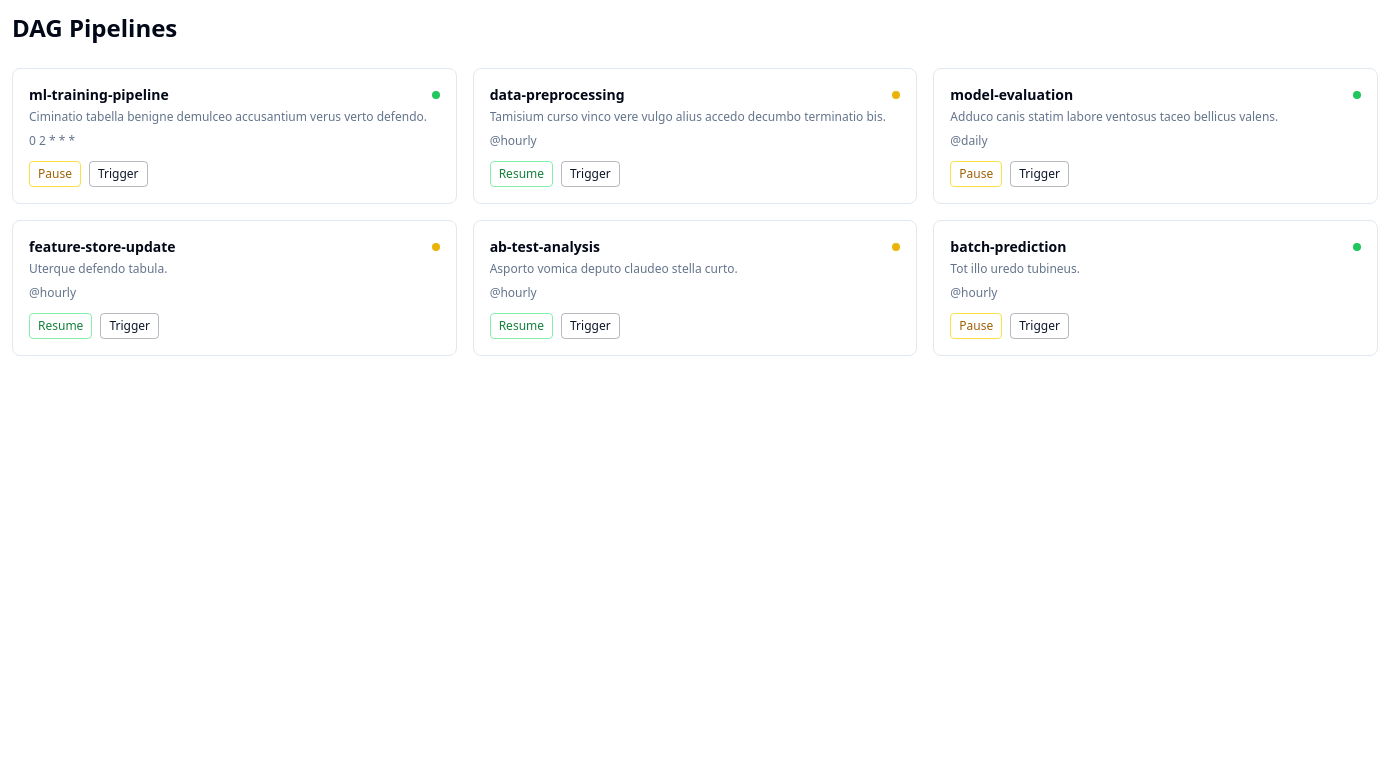
DAGListPage › shows graph and runs when a DAG is selected
Click the heading "ml-training-pipeline" at (99,95), box [29, 85, 169, 105]
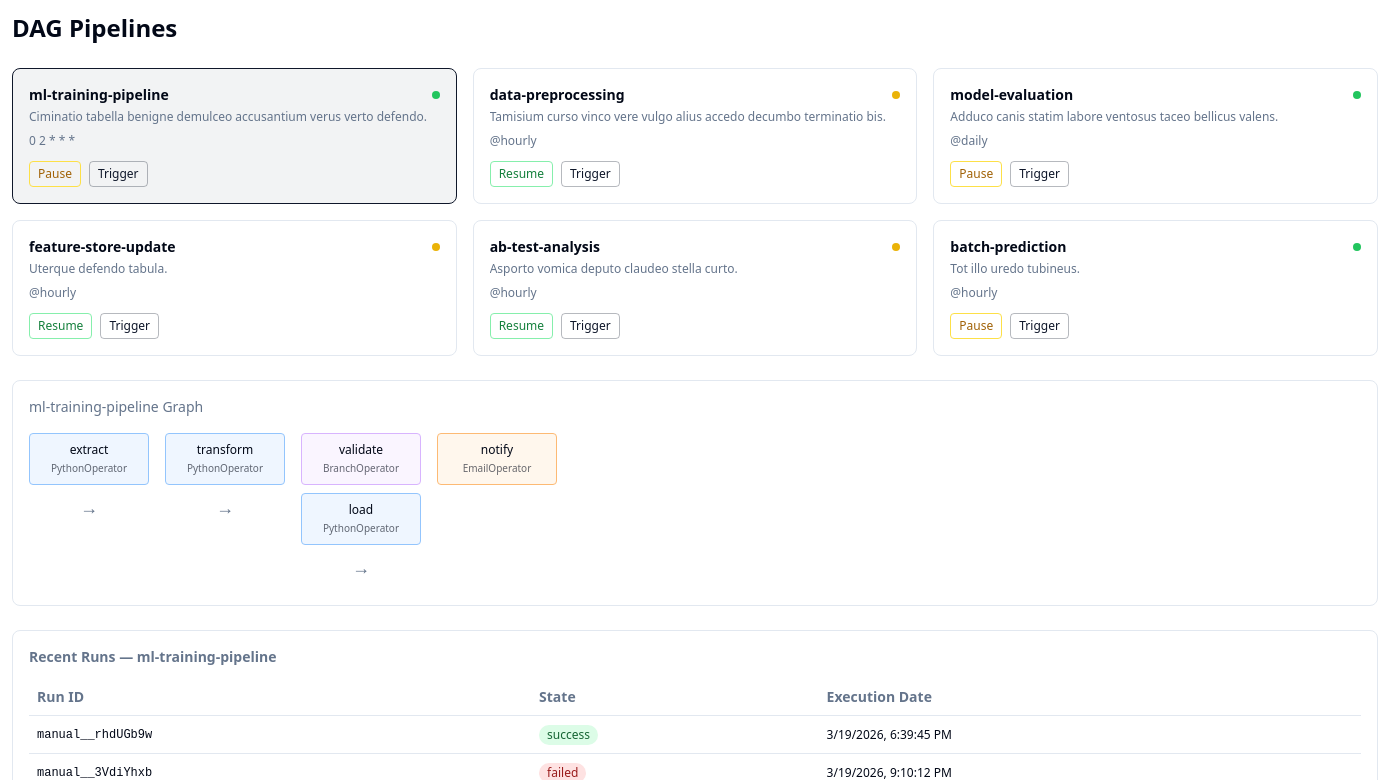
expect the heading "Recent Runs — ml-training-pipeline" is shown: met, box [29, 647, 276, 666]
